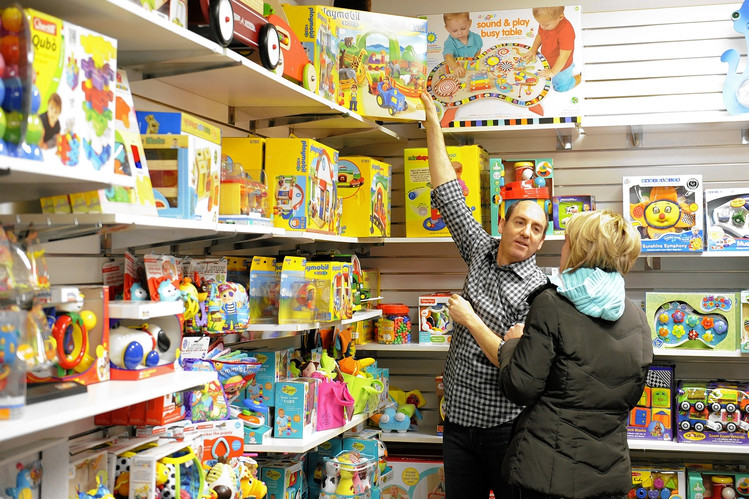Age_40_50: (495, 197, 557, 262)
E_White: (495, 197, 557, 262)
Emotion_Happy: (495, 197, 557, 262)
G_Male: (495, 197, 557, 262)
Not_Face: (559, 202, 646, 267)
